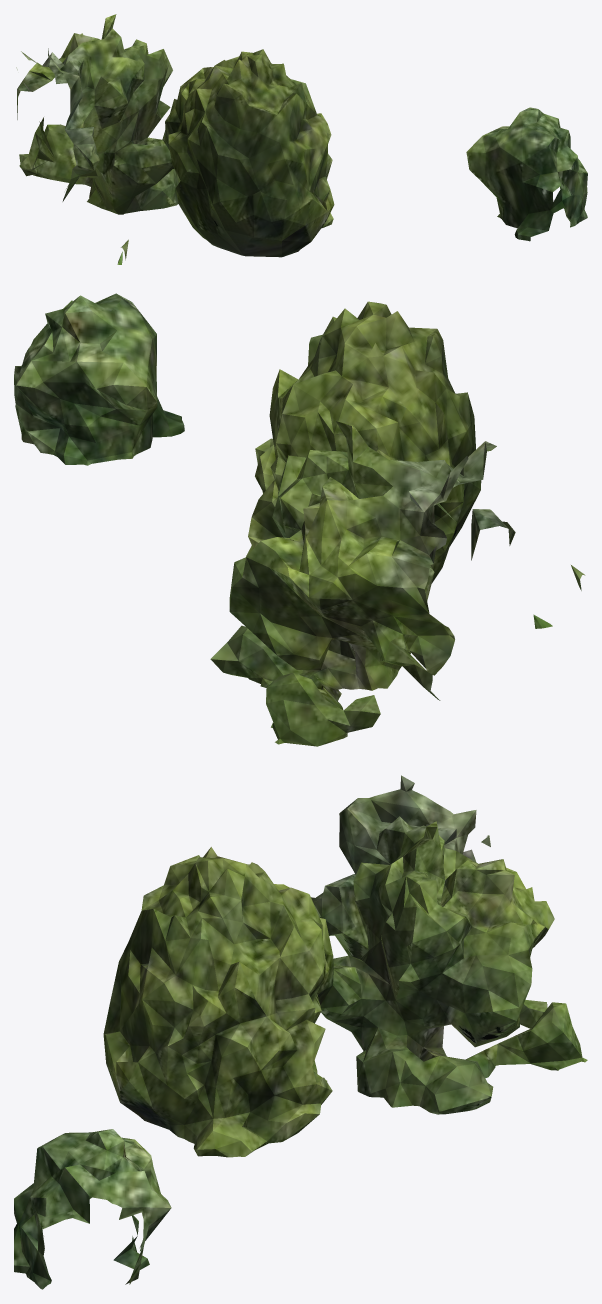
3 views of the same model, one above another, from view 1: azimuth 30°, elevation 25°; view 2: azimuth 150°, elevation 25°; view 3: azimuth 270°, elevation 25° (orthographic). The views are drawn at different scales.
Size of the model in its own units: 26.11 by 11.17 by 23.14.
Materials: 3 (3 with a texture image).
